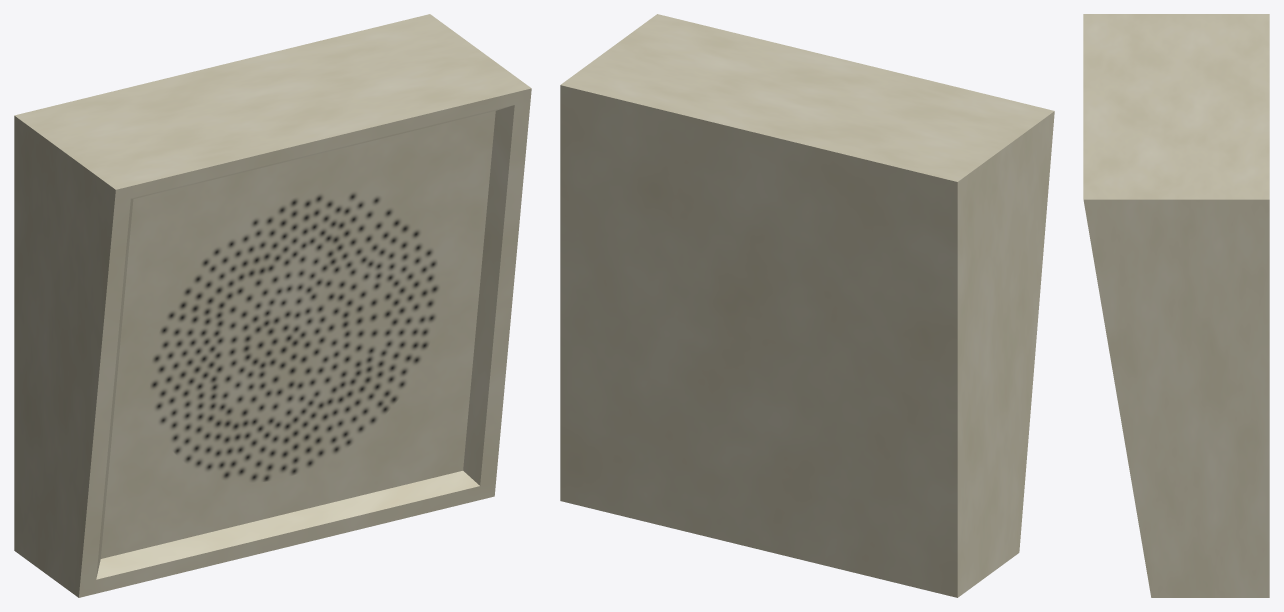
File: Speaker.fbx
The picture shows the model from 3 angles, left to right: view 1: azimuth 30°, elevation 25°; view 2: azimuth 150°, elevation 25°; view 3: azimuth 270°, elevation 25°; orthographic projection. The views are drawn at different scales.
Parts seen in each view (by area): view 1: Speaker; view 2: Speaker; view 3: Speaker.
Part boxes in pixels (<box>): Speaker: <box>14,14,531,597</box>; Speaker: <box>560,14,1054,597</box>; Speaker: <box>1083,14,1269,597</box>.
Size of the model in its own units: 0.9405 by 0.9405 by 0.3981.
1 material, 1 textured.
